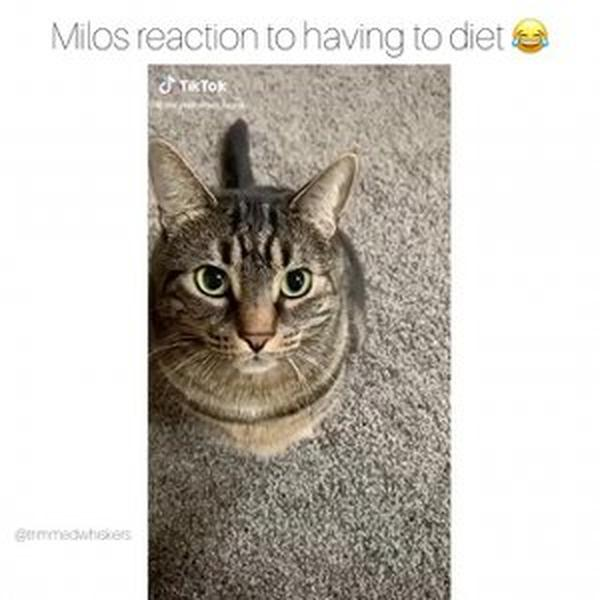michi: (151, 110, 382, 466)
